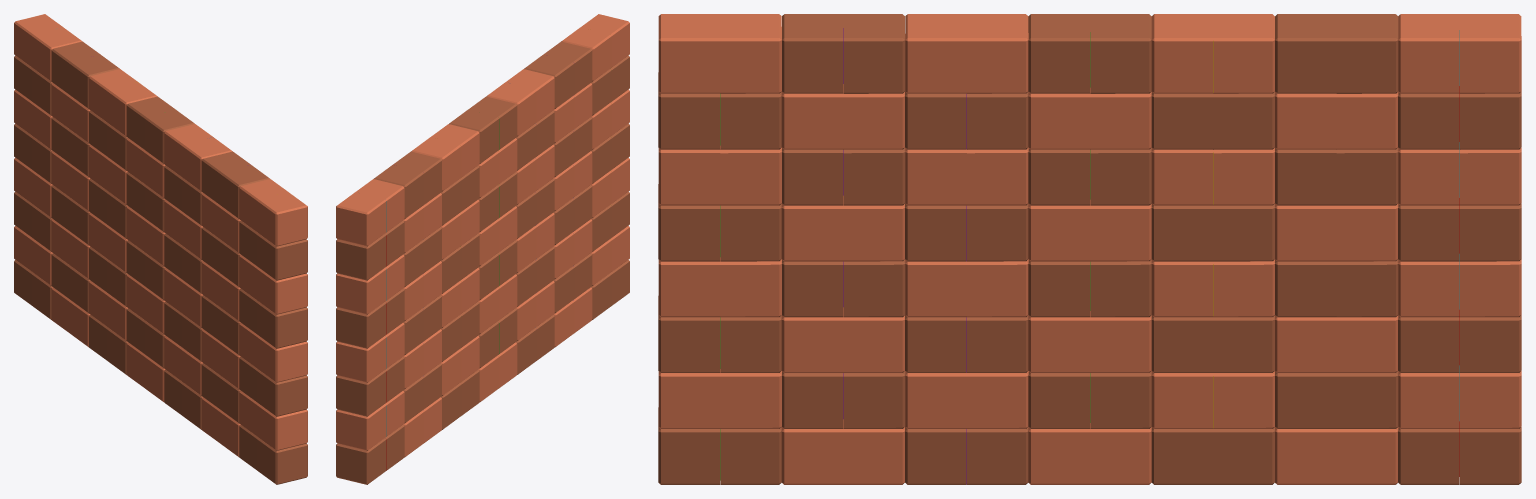
The model's file is wall1.fbx.
The picture shows the model from 3 angles, left to right: view 1: azimuth 30°, elevation 25°; view 2: azimuth 150°, elevation 25°; view 3: azimuth 270°, elevation 25°; orthographic projection. The views are drawn at different scales.
Visible parts, largest first — view 1: Cube.142, Cube.166, Cube.130, Cube.150, Cube.134, Cube.118, Cube.146, Cube.162, Cube.138, Cube.119, Cube.132, Cube.121 (+100 smaller); view 2: Cube.127, Cube.032, Cube.115, Cube.095, Cube.101, Cube.041, Cube.081, Cube.075, Cube.141, Cube.126, Cube.133, Cube.143 (+100 smaller); view 3: Cube.129, Cube.132, Cube.142, Cube.127, Cube.141, Cube.126, Cube.140, Cube.119, Cube.121, Cube.128, Cube.133, Cube.138 (+100 smaller).
Part boxes in pixels (x1,y1,x2,y2): Cube.142: (257,192,307,246); Cube.166: (257,234,307,280); Cube.130: (257,404,307,450); Cube.150: (257,302,307,348); Cube.134: (257,370,307,416); Cube.118: (257,438,307,484); Cube.146: (257,336,307,382); Cube.162: (257,268,307,314); Cube.138: (144,109,194,163); Cube.119: (182,137,232,191); Cube.132: (107,82,157,136); Cube.121: (32,27,82,81); Cube.127: (336,192,386,246); Cube.032: (336,404,386,450); Cube.115: (336,234,386,280); Cube.095: (336,302,386,348); Cube.101: (336,268,386,314); Cube.041: (336,438,386,484); Cube.081: (336,336,386,382); Cube.075: (336,370,386,416); Cube.141: (524,54,574,108); Cube.126: (486,82,536,136); Cube.133: (411,137,461,191); Cube.143: (561,27,611,81); Cube.129: (1336,14,1398,93); Cube.132: (1151,14,1213,93); Cube.142: (658,14,720,93); Cube.127: (1459,14,1521,93); Cube.141: (843,14,905,93); Cube.126: (966,14,1028,93); Cube.140: (782,14,843,93); Cube.119: (905,14,966,93); Cube.121: (1398,14,1459,93); Cube.128: (1275,14,1336,93); Cube.133: (1213,14,1274,93); Cube.138: (1028,14,1089,93).
Size of the model in its own units: 50.19 by 400 by 700.
